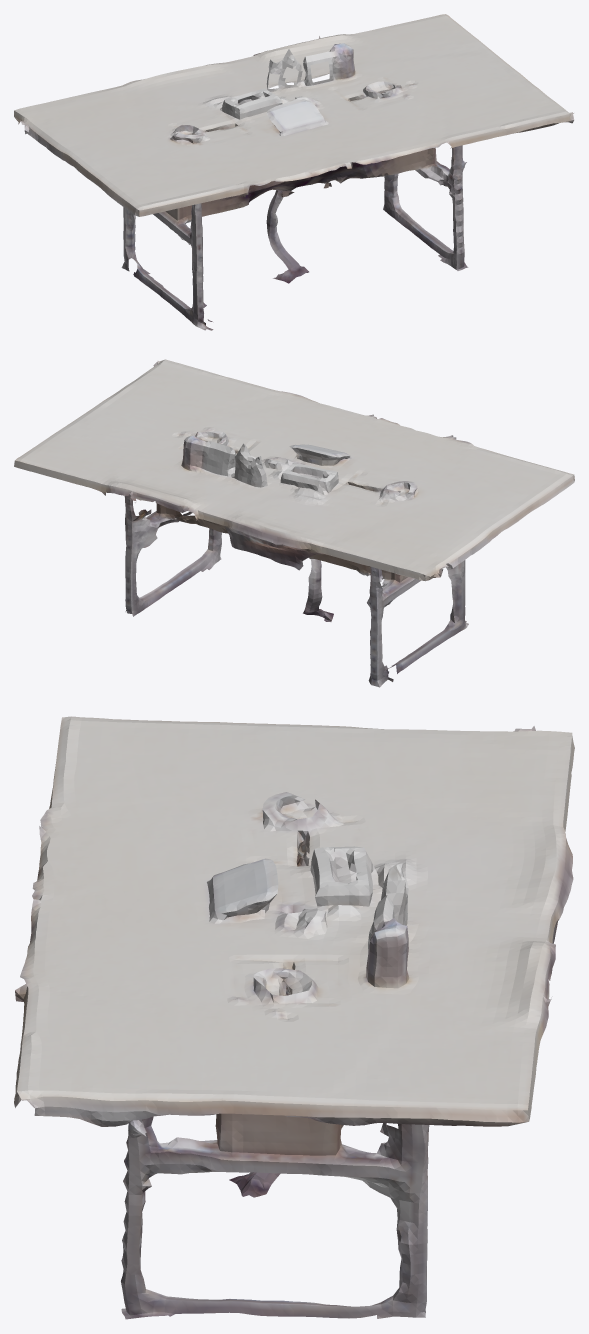
3 renders of one model, top to bottom at view 1: azimuth 30°, elevation 25°; view 2: azimuth 150°, elevation 25°; view 3: azimuth 270°, elevation 25°, orthographic. The views are drawn at different scales.
Visible parts, largest first — view 1: world; view 2: world; view 3: world.
Part boxes in pixels (box(x1,y1,x2,y2)): world: box(14, 14, 574, 330); world: box(14, 359, 574, 687); world: box(14, 716, 574, 1319).
Size of the model in its own units: 1 by 0.4242 by 0.5955.
